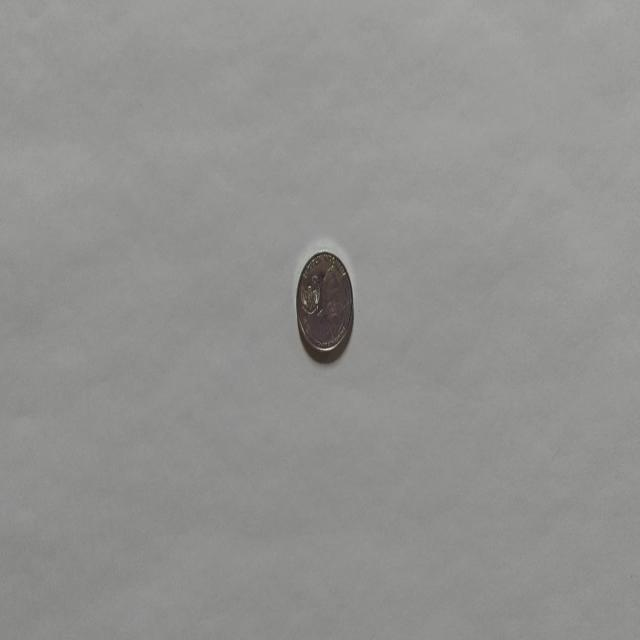dua ratus rupiah: (295, 249, 354, 359)
